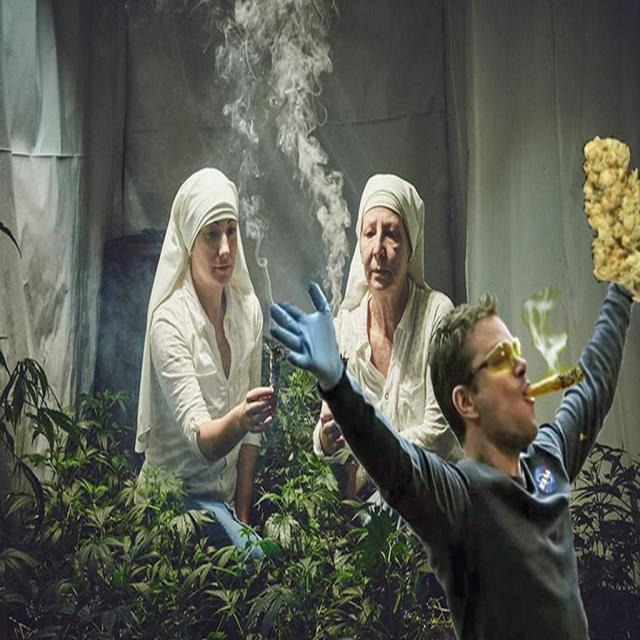smoking: (143, 167, 309, 447), (408, 287, 588, 444)
